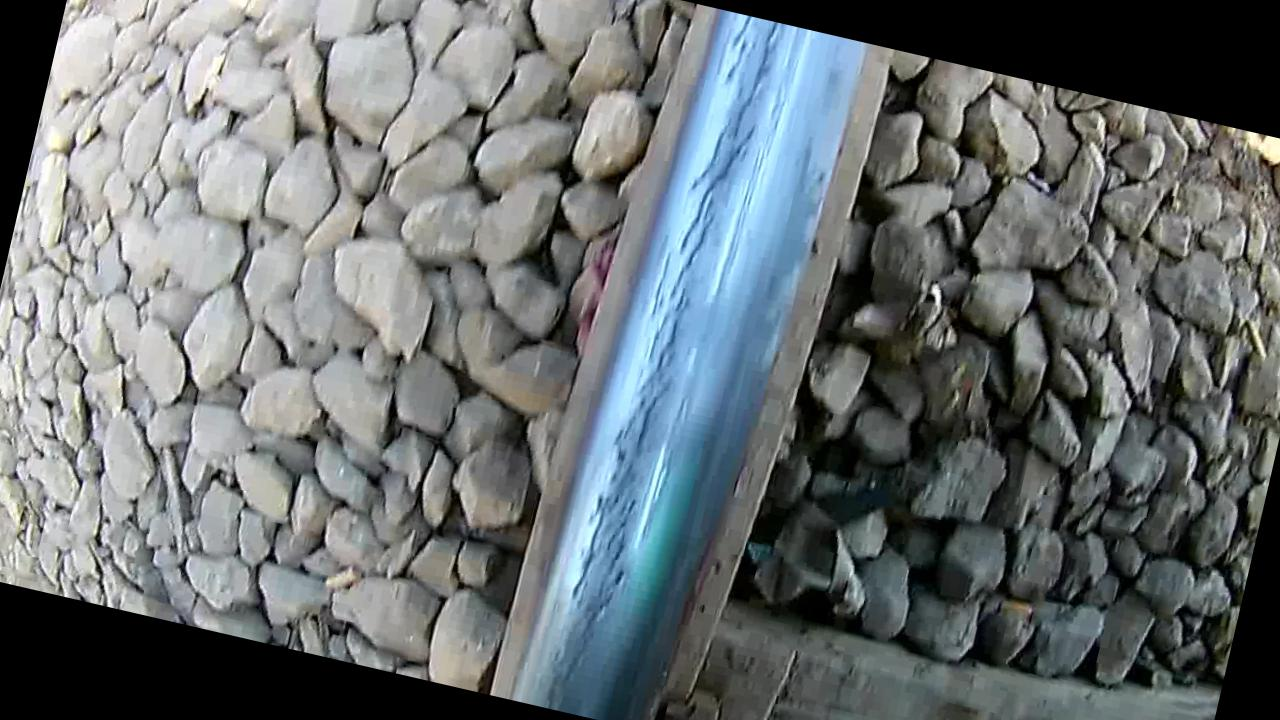normal_track: (536, 4, 792, 720)
